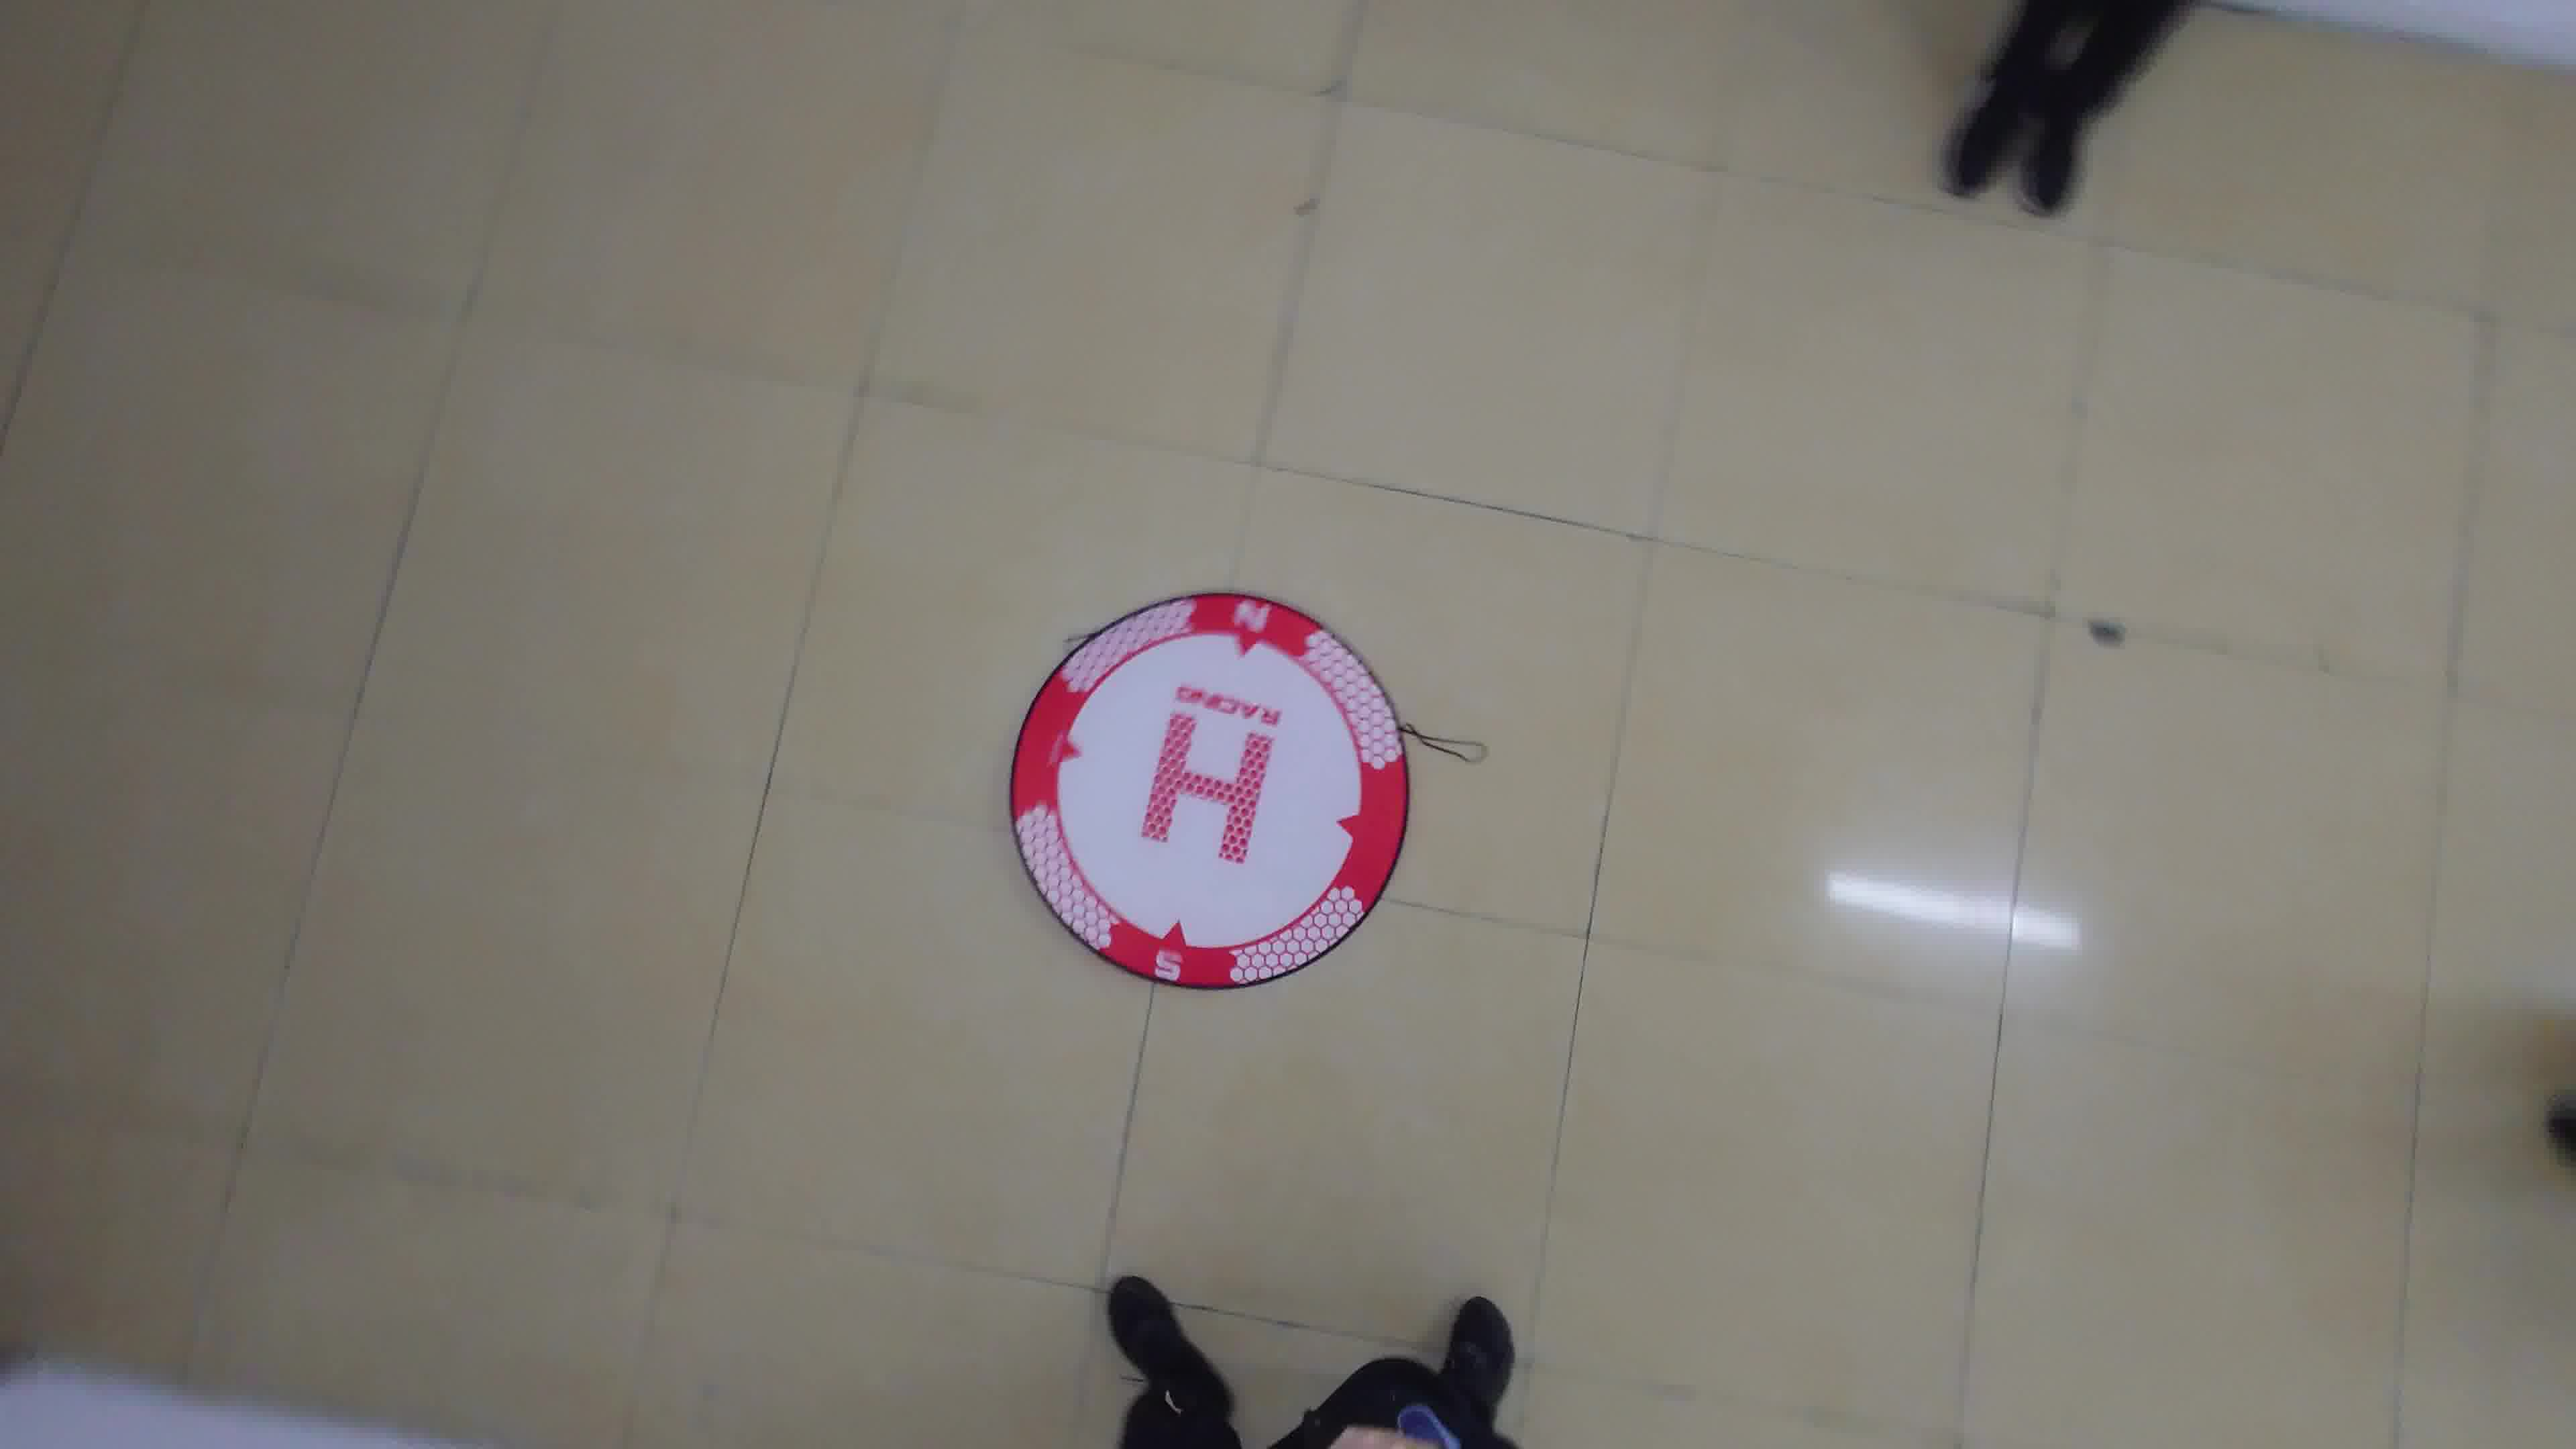H: (1141, 711, 1274, 865)
